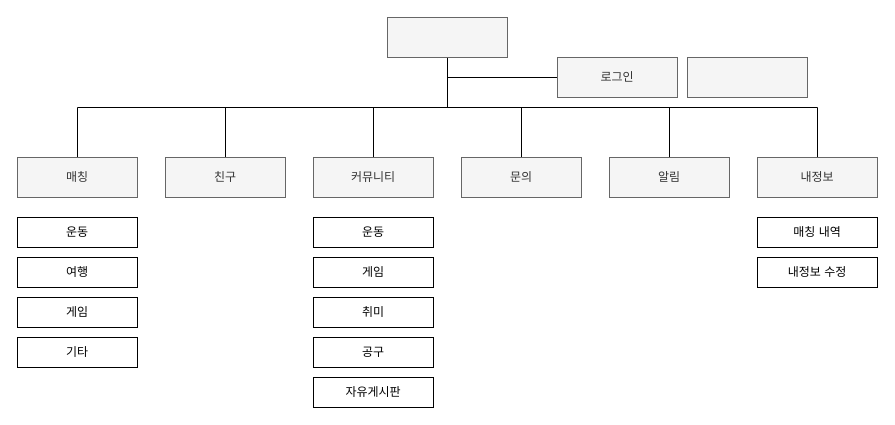
The diagram is 895 pixels wide and 425 high, and some of its shapes have lost their labels. Here are the shapes that lost their labels. From the top down, the box of each, then its label:
(386, 16, 508, 58): 홈화면
(686, 56, 808, 98): 회원가입
